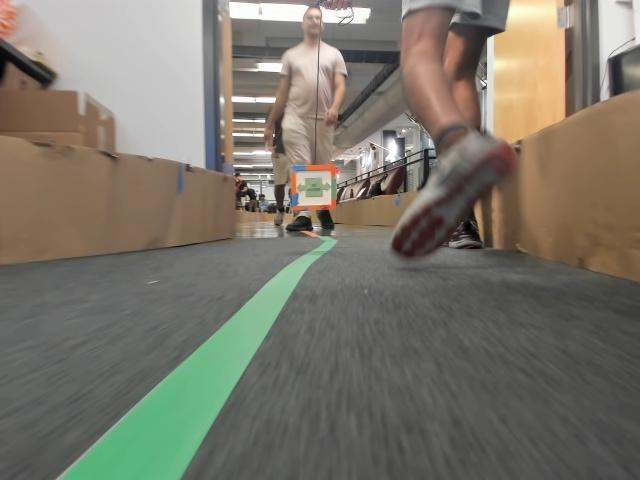Go Around: (297, 177, 329, 196)
